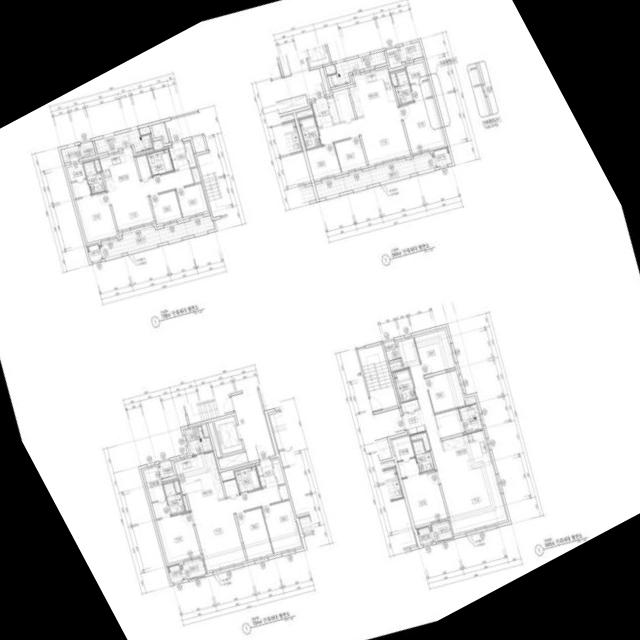background: (0, 0, 640, 640)
space_balconi: (314, 153, 436, 198), (98, 215, 214, 258), (326, 50, 386, 87), (93, 128, 152, 153), (184, 426, 211, 455), (458, 403, 481, 432), (179, 558, 205, 579), (398, 41, 423, 61), (429, 520, 451, 541), (60, 144, 81, 162)
space_bedroom: (401, 470, 447, 526), (399, 97, 444, 153), (156, 511, 200, 563), (75, 191, 117, 242), (261, 500, 301, 553), (235, 507, 272, 560), (414, 329, 454, 375), (424, 369, 464, 413), (305, 143, 340, 179), (334, 136, 366, 171), (149, 190, 181, 224), (175, 183, 207, 217)
space_dressroom: (142, 466, 169, 518), (391, 435, 418, 477), (405, 61, 432, 100), (66, 161, 89, 198)
space_elevator: (213, 415, 242, 454)
space_elevator_hall: (230, 389, 274, 461)
space_front: (311, 97, 332, 128), (255, 457, 276, 487), (401, 409, 425, 435), (168, 141, 189, 170)
space_kitchen: (173, 451, 224, 506), (348, 67, 397, 117), (440, 429, 491, 474), (98, 147, 139, 189)
space_living_room: (397, 337, 506, 533), (189, 484, 281, 570), (107, 167, 193, 230), (317, 107, 409, 164)
space_other: (434, 408, 463, 438), (332, 88, 354, 121), (217, 451, 248, 469), (207, 421, 221, 457), (135, 154, 151, 179), (150, 121, 168, 143), (410, 432, 429, 450), (271, 458, 284, 484), (385, 47, 401, 68), (383, 340, 399, 360), (183, 141, 195, 167), (327, 97, 339, 123), (318, 67, 329, 94), (79, 140, 95, 157), (222, 479, 238, 496), (158, 460, 173, 478), (191, 134, 205, 152), (400, 398, 418, 412), (190, 167, 200, 183), (278, 484, 288, 500), (295, 109, 312, 118), (138, 125, 150, 135), (388, 360, 401, 369), (324, 64, 335, 74), (152, 140, 162, 150), (389, 73, 397, 85), (93, 159, 100, 172), (182, 495, 188, 510), (173, 480, 180, 492), (464, 397, 475, 404), (201, 424, 207, 436)
space_outdoor_room: (432, 147, 451, 166), (416, 526, 432, 545), (86, 243, 101, 261), (167, 564, 182, 582)
space_staircase: (357, 343, 397, 411)
space_toilet: (82, 160, 105, 194), (298, 115, 321, 149), (392, 368, 415, 401), (411, 439, 434, 472), (146, 148, 173, 175), (234, 465, 260, 493), (162, 481, 184, 514), (394, 70, 413, 104)
